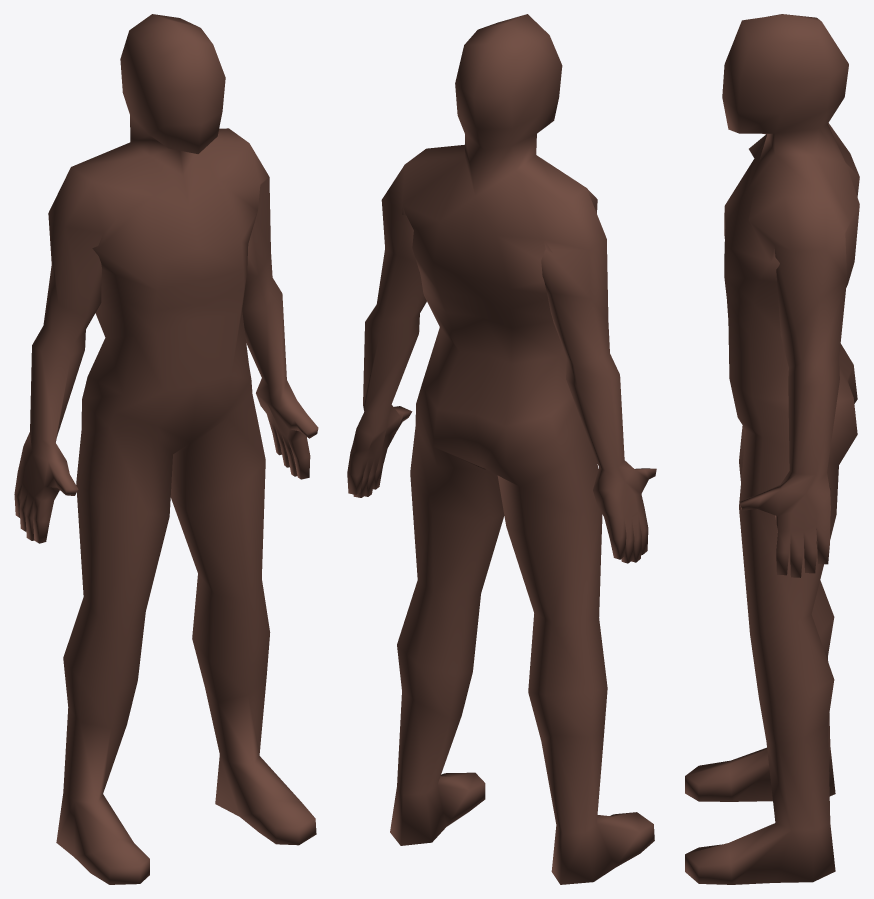
Rendered from HumanRef.fbx.
3 renders of one model, left to right at view 1: azimuth 30°, elevation 25°; view 2: azimuth 150°, elevation 25°; view 3: azimuth 270°, elevation 25°, orthographic.
Visible parts, largest first — view 1: HumanMale; view 2: HumanMale; view 3: HumanMale.
Part boxes in pixels (x1,y1,x2,y2): HumanMale: [14, 14, 318, 884]; HumanMale: [347, 14, 656, 884]; HumanMale: [685, 14, 859, 884].
Bounding box in the file's own units: 65.94 × 187 × 36.18.
